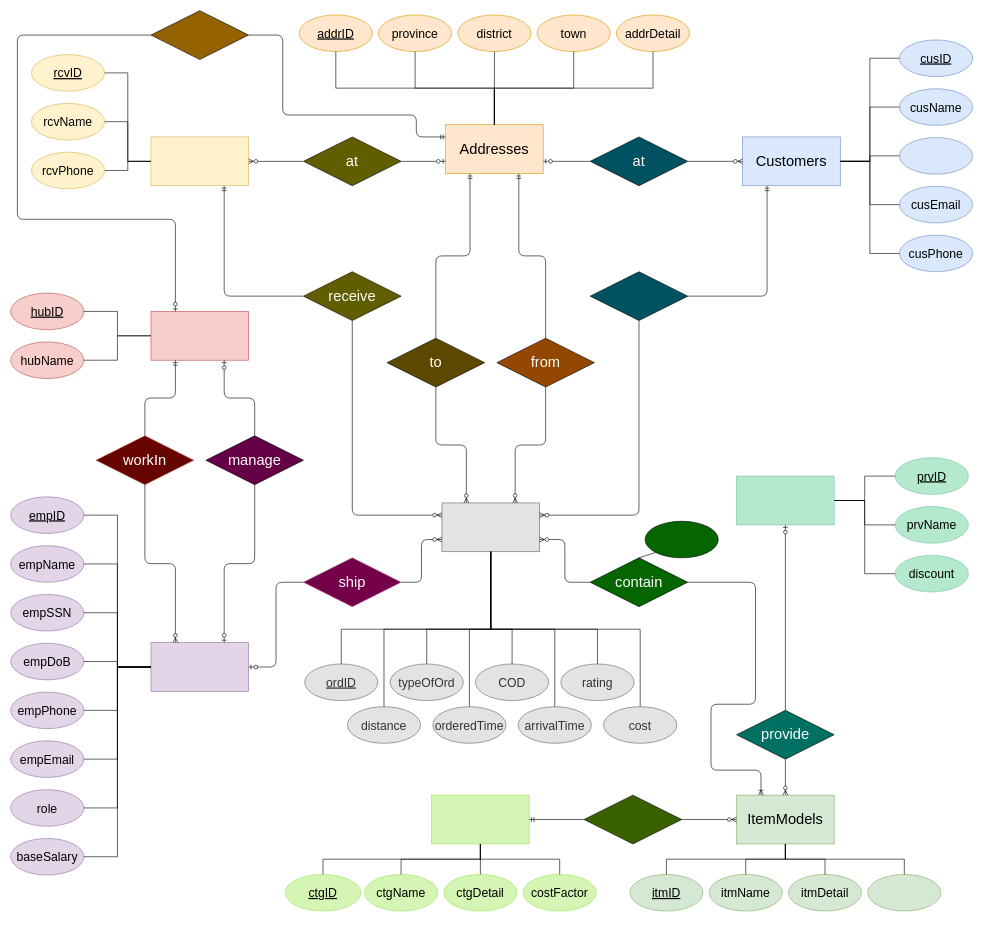
Image size: 983x927. Some labels were removed from this diagram. Here are the shapes that lost their labels. From the top down, the box of each, then its label:
(150, 10, 249, 59): locatedAt
(150, 136, 249, 186): Receivers
(899, 137, 973, 174): cusDoB
(590, 271, 688, 321): create
(150, 311, 249, 360): Hubs
(736, 475, 834, 525): Providers
(441, 502, 540, 552): Orders
(644, 521, 718, 558): numOfItem
(150, 642, 249, 691): Employees
(431, 795, 529, 844): Categories
(583, 795, 682, 844): categorize
(867, 874, 941, 911): weight
